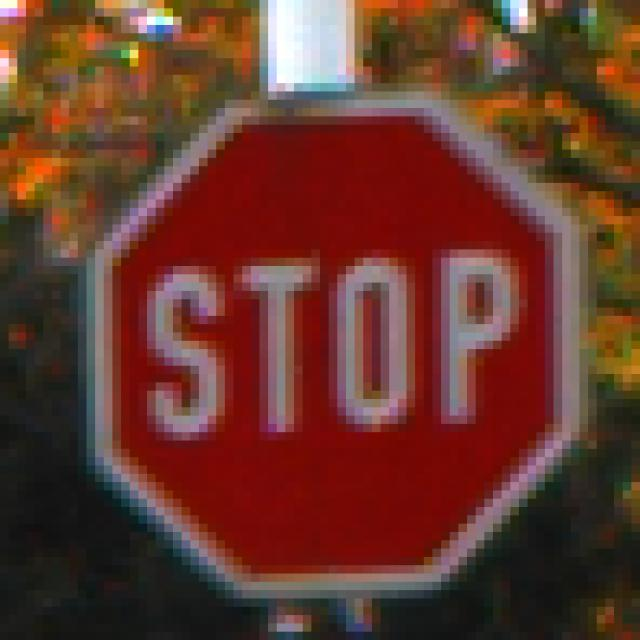STOP: (62, 59, 589, 591)
